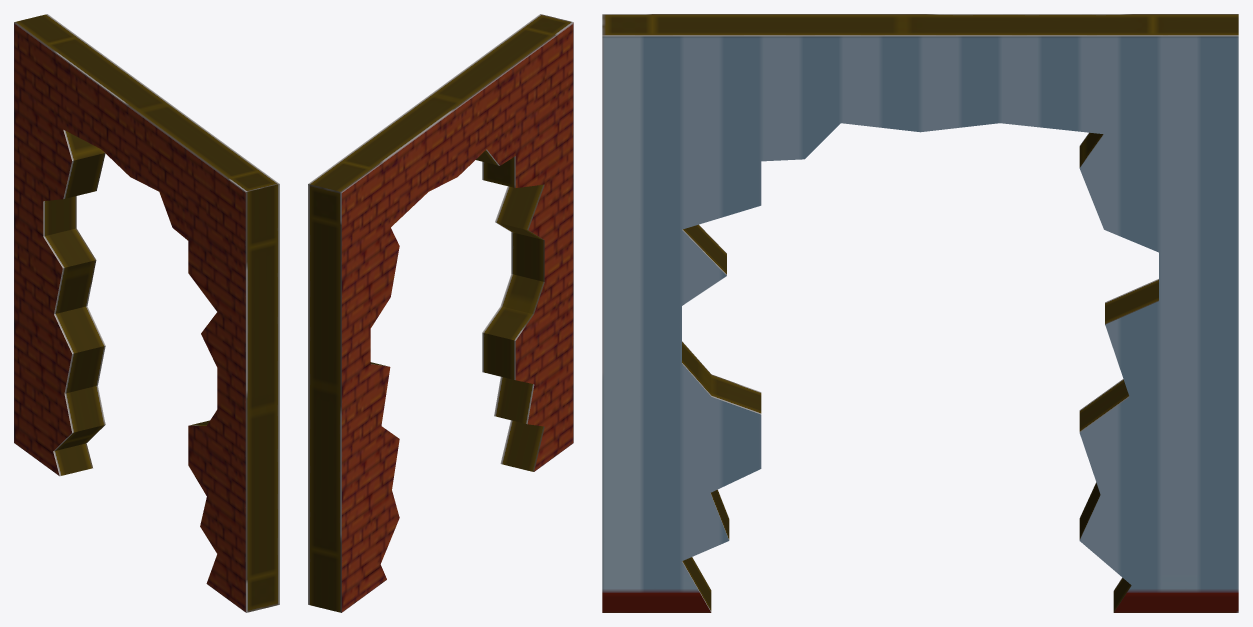
The model's file is Wall_Broken_04.fbx.
3 views of the same model, side by side, from view 1: azimuth 30°, elevation 25°; view 2: azimuth 150°, elevation 25°; view 3: azimuth 270°, elevation 25° (orthographic). The views are drawn at different scales.
Visible parts, largest first — view 1: Wall_Broken_04; view 2: Wall_Broken_04; view 3: Wall_Broken_04.
Part boxes in pixels (bbox=[...]): Wall_Broken_04: bbox=[14, 14, 279, 612]; Wall_Broken_04: bbox=[308, 14, 573, 612]; Wall_Broken_04: bbox=[602, 14, 1238, 612].
Bounding box in the file's own units: 50 × 600 × 600.
